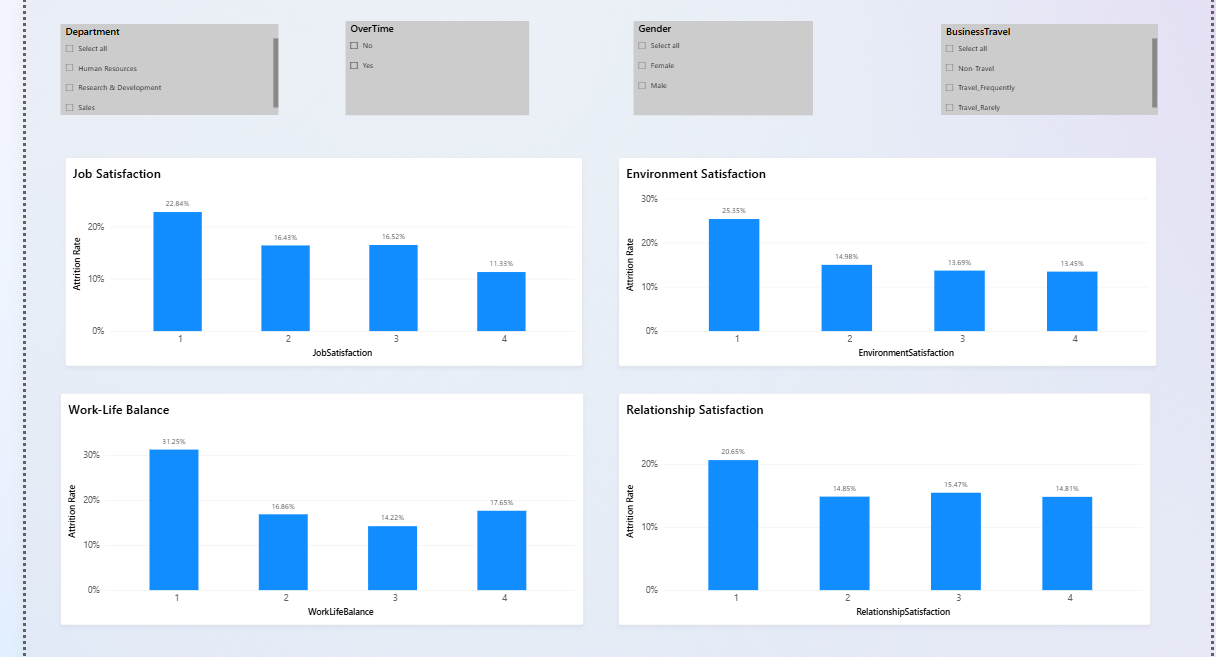

The page's visual inventory and layout, read from the dashboard file:
{"tool":"powerbi","page":{"name":"Employee Satisfaction","canvas":[1920,1080],"ordinal":2},"visuals":[{"type":"clusteredColumnChart","title":"Job Satisfaction","fields":{"Category":["Employee_Data.JobSatisfaction"],"Y":["Employee_Data.Attrition Rate"]},"box":[64.3,259.5,838.1,338.1],"z":0},{"type":"clusteredColumnChart","title":"Environment Satisfaction","fields":{"Category":["Employee_Data.EnvironmentSatisfaction"],"Y":["Employee_Data.Attrition Rate"]},"box":[959.5,259.5,871.4,338.1],"z":1},{"type":"clusteredColumnChart","title":"Relationship Satisfaction","fields":{"Category":["Employee_Data.RelationshipSatisfaction"],"Y":["Employee_Data.Attrition Rate"]},"box":[959.5,640.5,861.9,376.2],"z":2},{"type":"clusteredColumnChart","title":"Work-Life Balance","fields":{"Category":["Employee_Data.WorkLifeBalance"],"Y":["Employee_Data.Attrition Rate"]},"box":[54.8,640.5,847.6,376.2],"z":3},{"type":"slicer","fields":{"Values":["Employee_Data.Department"]},"box":[54.8,42.9,352.4,147.6],"z":4},{"type":"slicer","fields":{"Values":["Employee_Data.OverTime"]},"box":[516.7,38.1,297.6,152.4],"z":5},{"type":"slicer","fields":{"Values":["Employee_Data.Gender"]},"box":[983.3,38.1,290.5,152.4],"z":6},{"type":"slicer","fields":{"Values":["Employee_Data.BusinessTravel"]},"box":[1481,42.9,350,147.6],"z":7}]}

Visuals, with their boxes on the page's 1920x1080 design canvas (x1, y1, x2, y2). These are canvas units, not pixel positions in the 1216x657 screenshot, which may show the page scaled, cropped or inside an application window:
"Job Satisfaction" clusteredColumnChart: bbox=(64, 260, 902, 598)
"Environment Satisfaction" clusteredColumnChart: bbox=(960, 260, 1831, 598)
"Relationship Satisfaction" clusteredColumnChart: bbox=(960, 640, 1821, 1017)
"Work-Life Balance" clusteredColumnChart: bbox=(55, 640, 902, 1017)
slicer - Employee_Data.Department: bbox=(55, 43, 407, 190)
slicer - Employee_Data.OverTime: bbox=(517, 38, 814, 190)
slicer - Employee_Data.Gender: bbox=(983, 38, 1274, 190)
slicer - Employee_Data.BusinessTravel: bbox=(1481, 43, 1831, 190)
